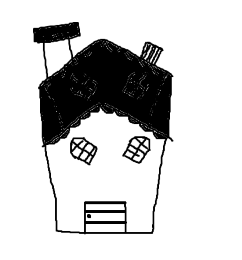chimney: (25, 15, 83, 75), (133, 34, 169, 72)
closed_window: (66, 135, 102, 164), (119, 136, 153, 166)
door: (77, 195, 134, 238)
shaded_roof: (23, 36, 193, 151)
wall: (41, 121, 167, 238)
